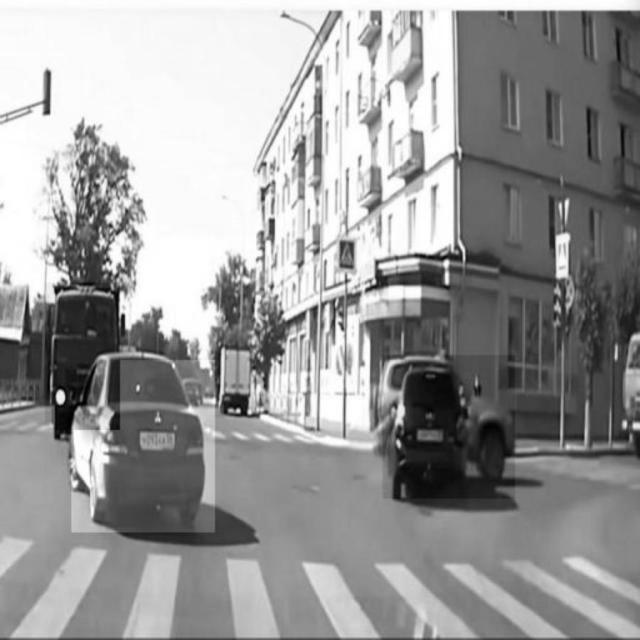accident: (382, 355, 516, 499)
vehicle: (71, 360, 215, 534), (46, 283, 120, 430), (215, 345, 255, 418)
